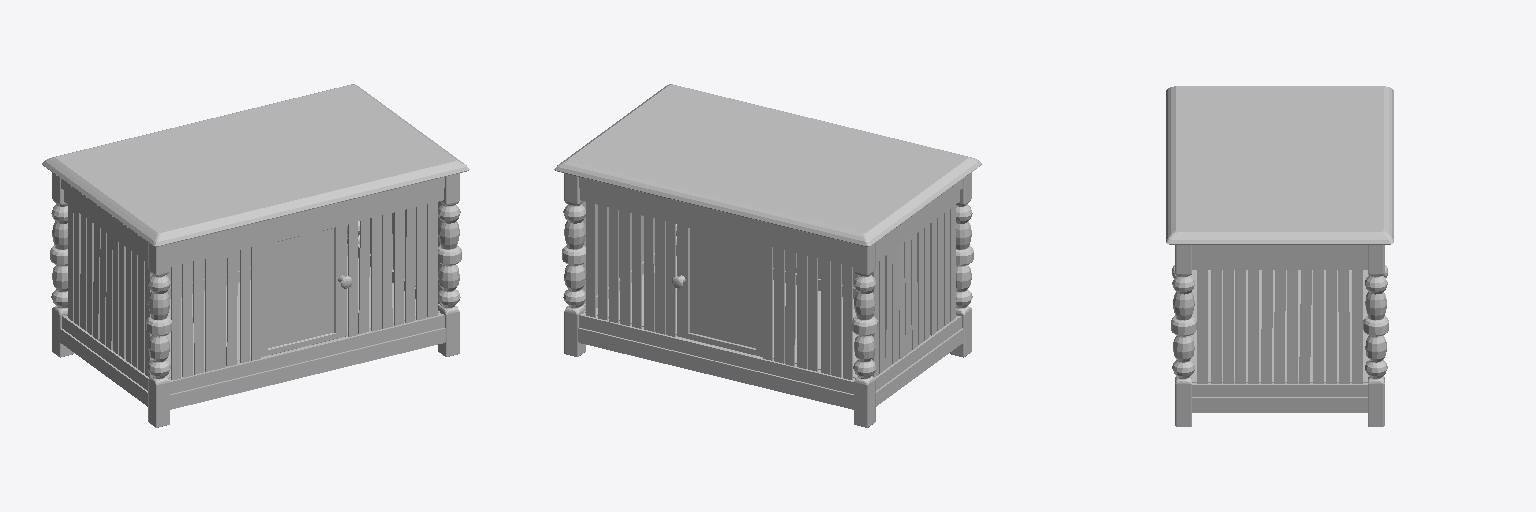
The picture shows the model from 3 angles: view 1: azimuth 30°, elevation 25°; view 2: azimuth 150°, elevation 25°; view 3: azimuth 270°, elevation 25°; orthographic projection.
Visible parts, largest first — view 1: gallinera_table; view 2: gallinera_table; view 3: gallinera_table.
Boxes of the visible parts, <box> form: gallinera_table: <box>42,84,469,427</box>; gallinera_table: <box>554,84,981,427</box>; gallinera_table: <box>1166,86,1393,426</box>.
Bounding box in the file's own units: 0.8301 × 0.4878 × 0.5183.